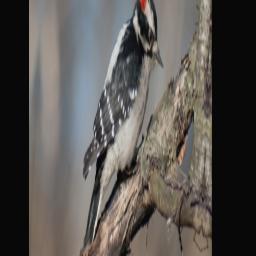Woodpecker: (78, 0, 169, 256)
